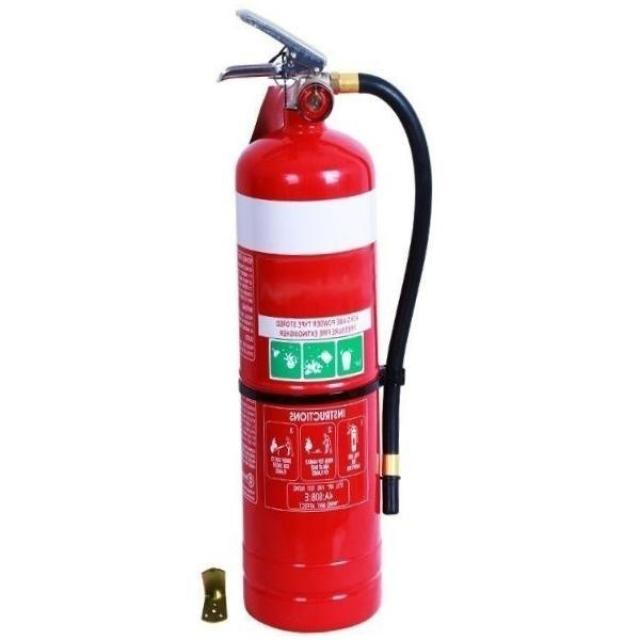fire_extinguisher: (210, 5, 436, 636)
